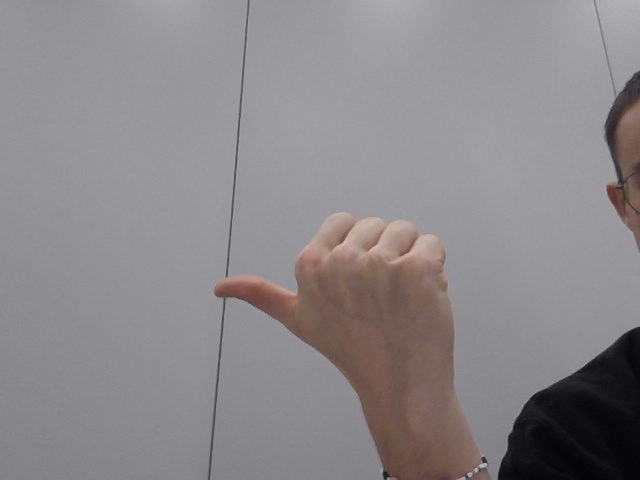right: (205, 202, 495, 406)
